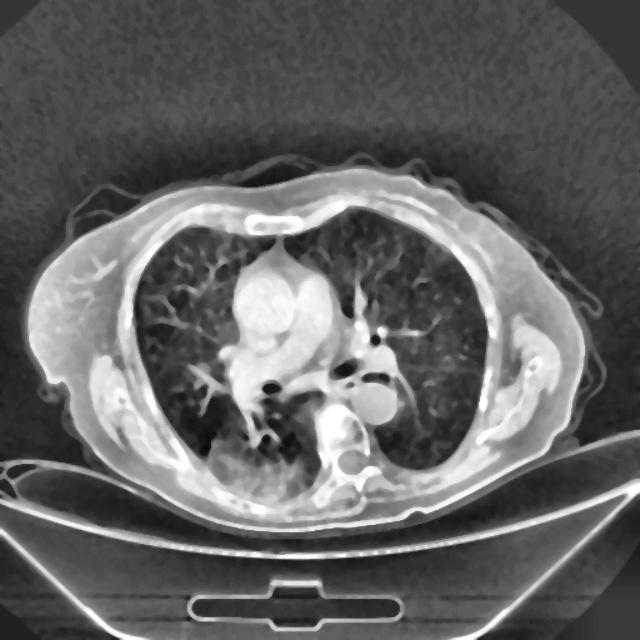covid: (22, 155, 605, 539)
